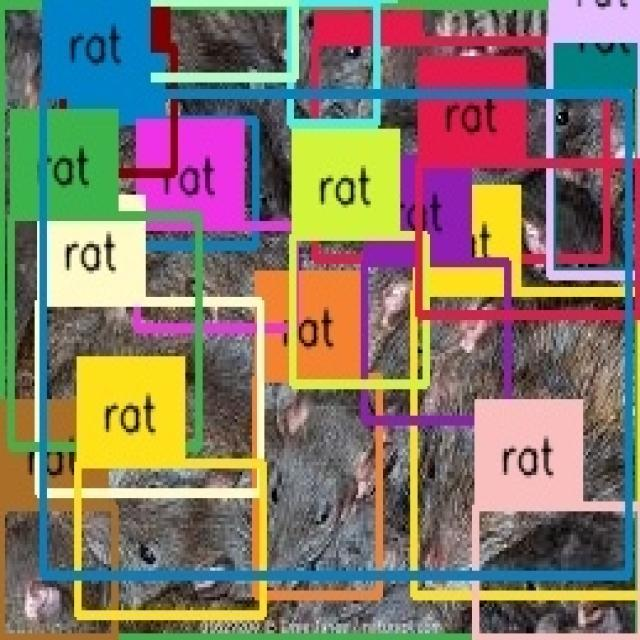rat: (2, 5, 640, 638), (42, 96, 630, 577), (412, 293, 640, 597), (315, 41, 607, 259), (11, 216, 199, 447), (37, 302, 260, 493), (419, 165, 639, 317), (78, 462, 263, 614), (257, 378, 378, 595), (58, 120, 256, 246), (363, 261, 509, 419), (477, 504, 640, 640), (548, 36, 640, 273), (292, 238, 425, 382), (81, 0, 296, 79), (553, 82, 640, 273), (137, 226, 295, 328), (0, 504, 113, 640), (62, 48, 173, 173), (291, 0, 375, 125)
